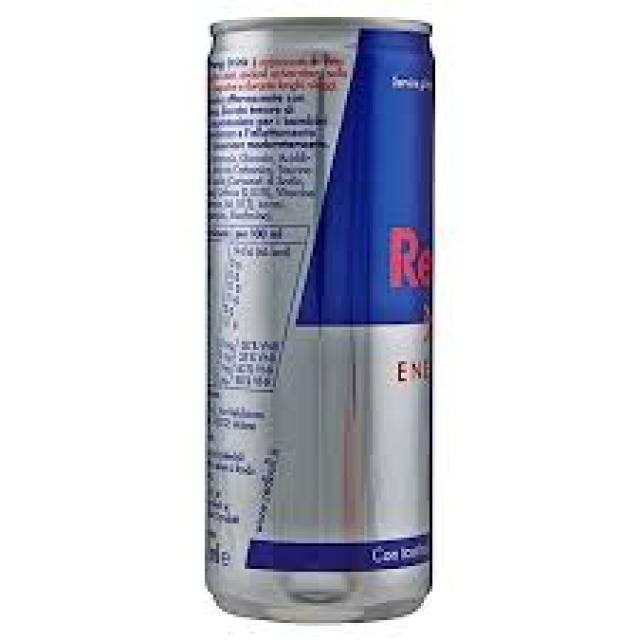red-bull: (207, 18, 440, 620)
